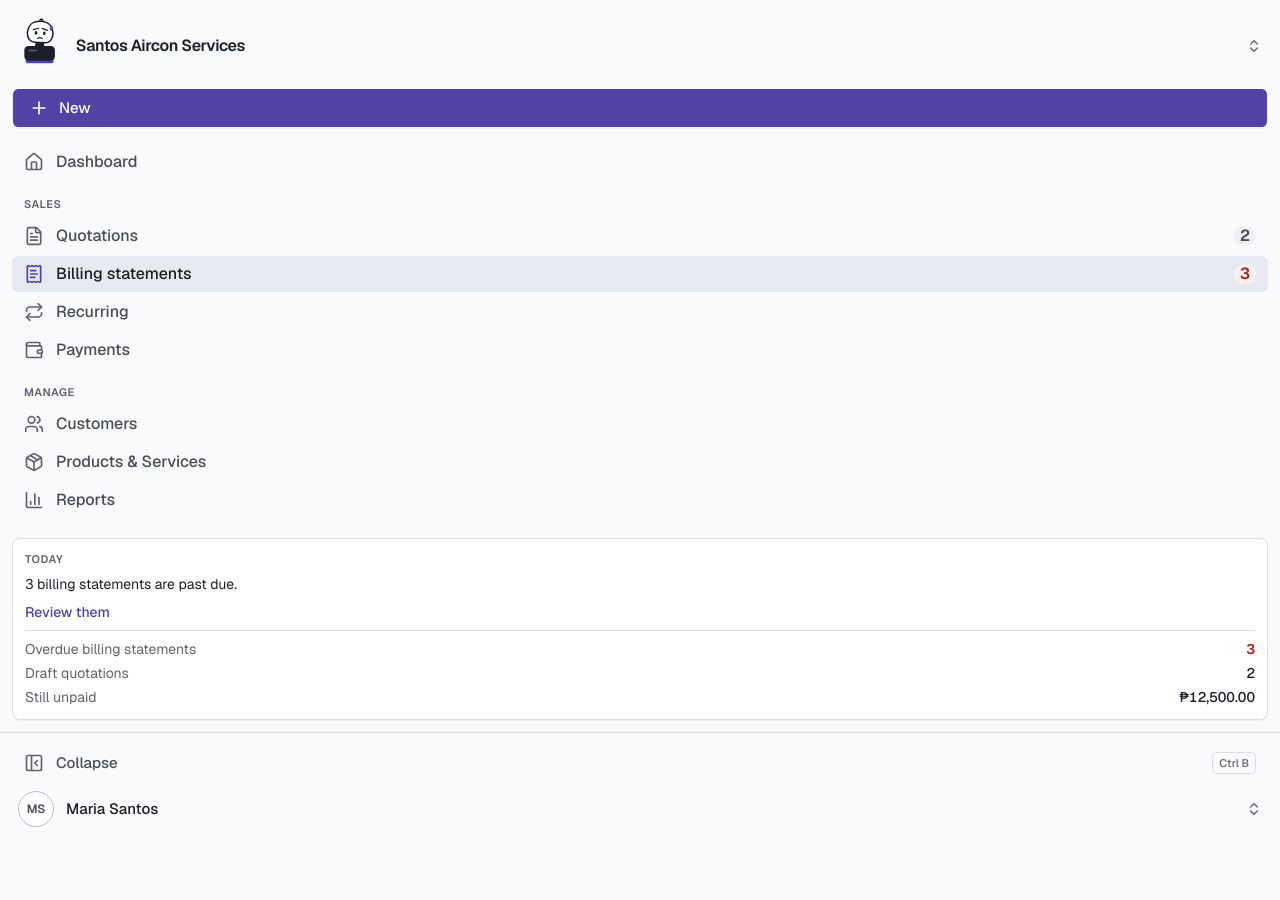
Test: sidebar › collapses and expands from the toggle, telling assistive tech which
Click the button "Collapse Ctrl B" at (87, 763), box [12, 745, 1268, 781]
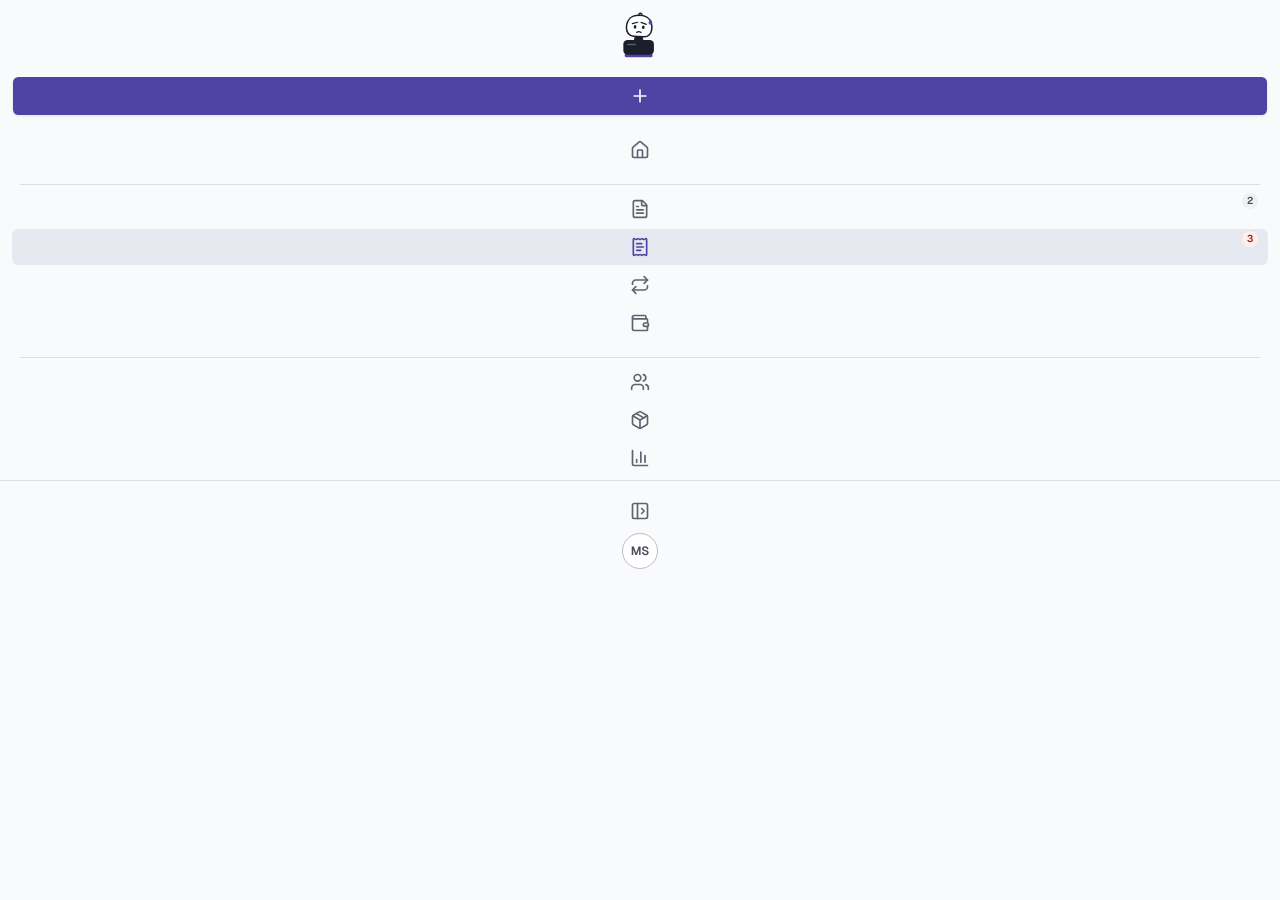
expect the 2nd button named "Collapse" is collapsed: met, box [12, 493, 1268, 529]
